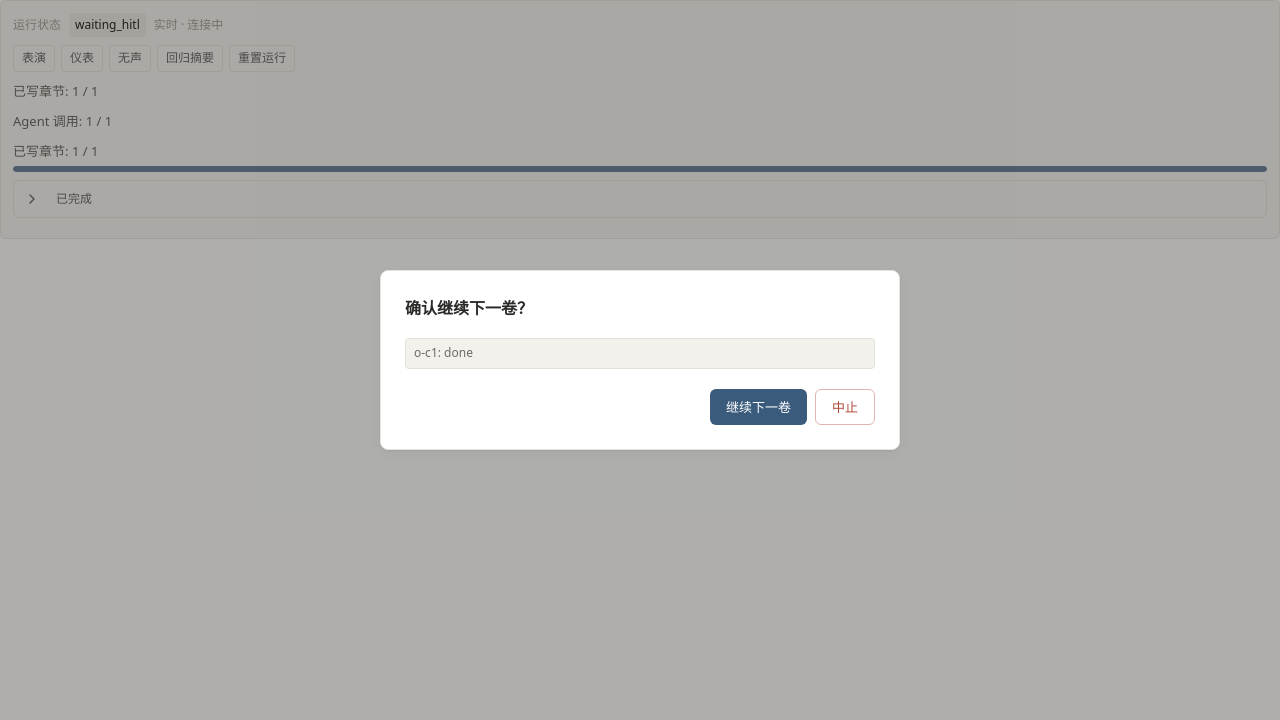
Test: BookRunPanel — 阶段3 卷级 HITL 对话框挂载（#337） › confirm 后 status=completed → 对话框消失
Expected: the dialog with test id "volume-hitl-dialog" is shown, [380, 270, 900, 450]
Click the button with test id "volume-hitl-approve" at x=758, y=407, box [710, 389, 807, 425]
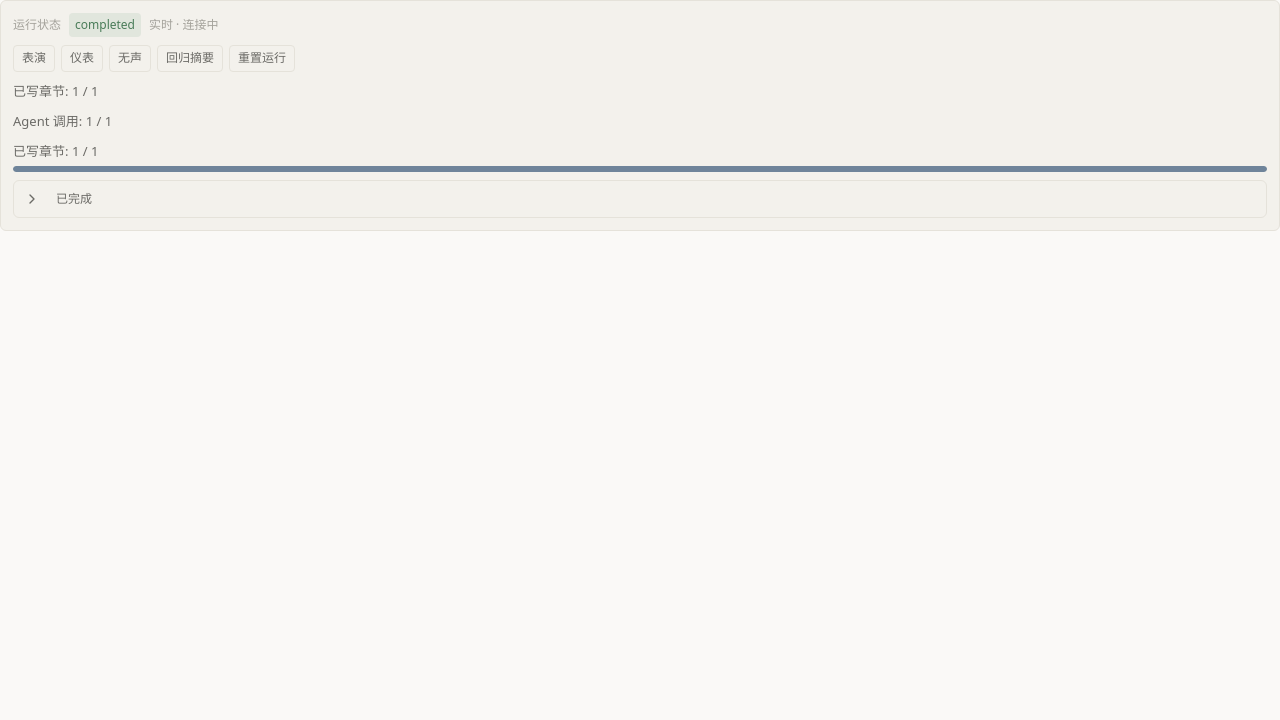
Now the dialog with test id "volume-hitl-dialog" is gone
